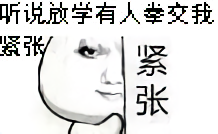dragon: (76, 41, 124, 108)
